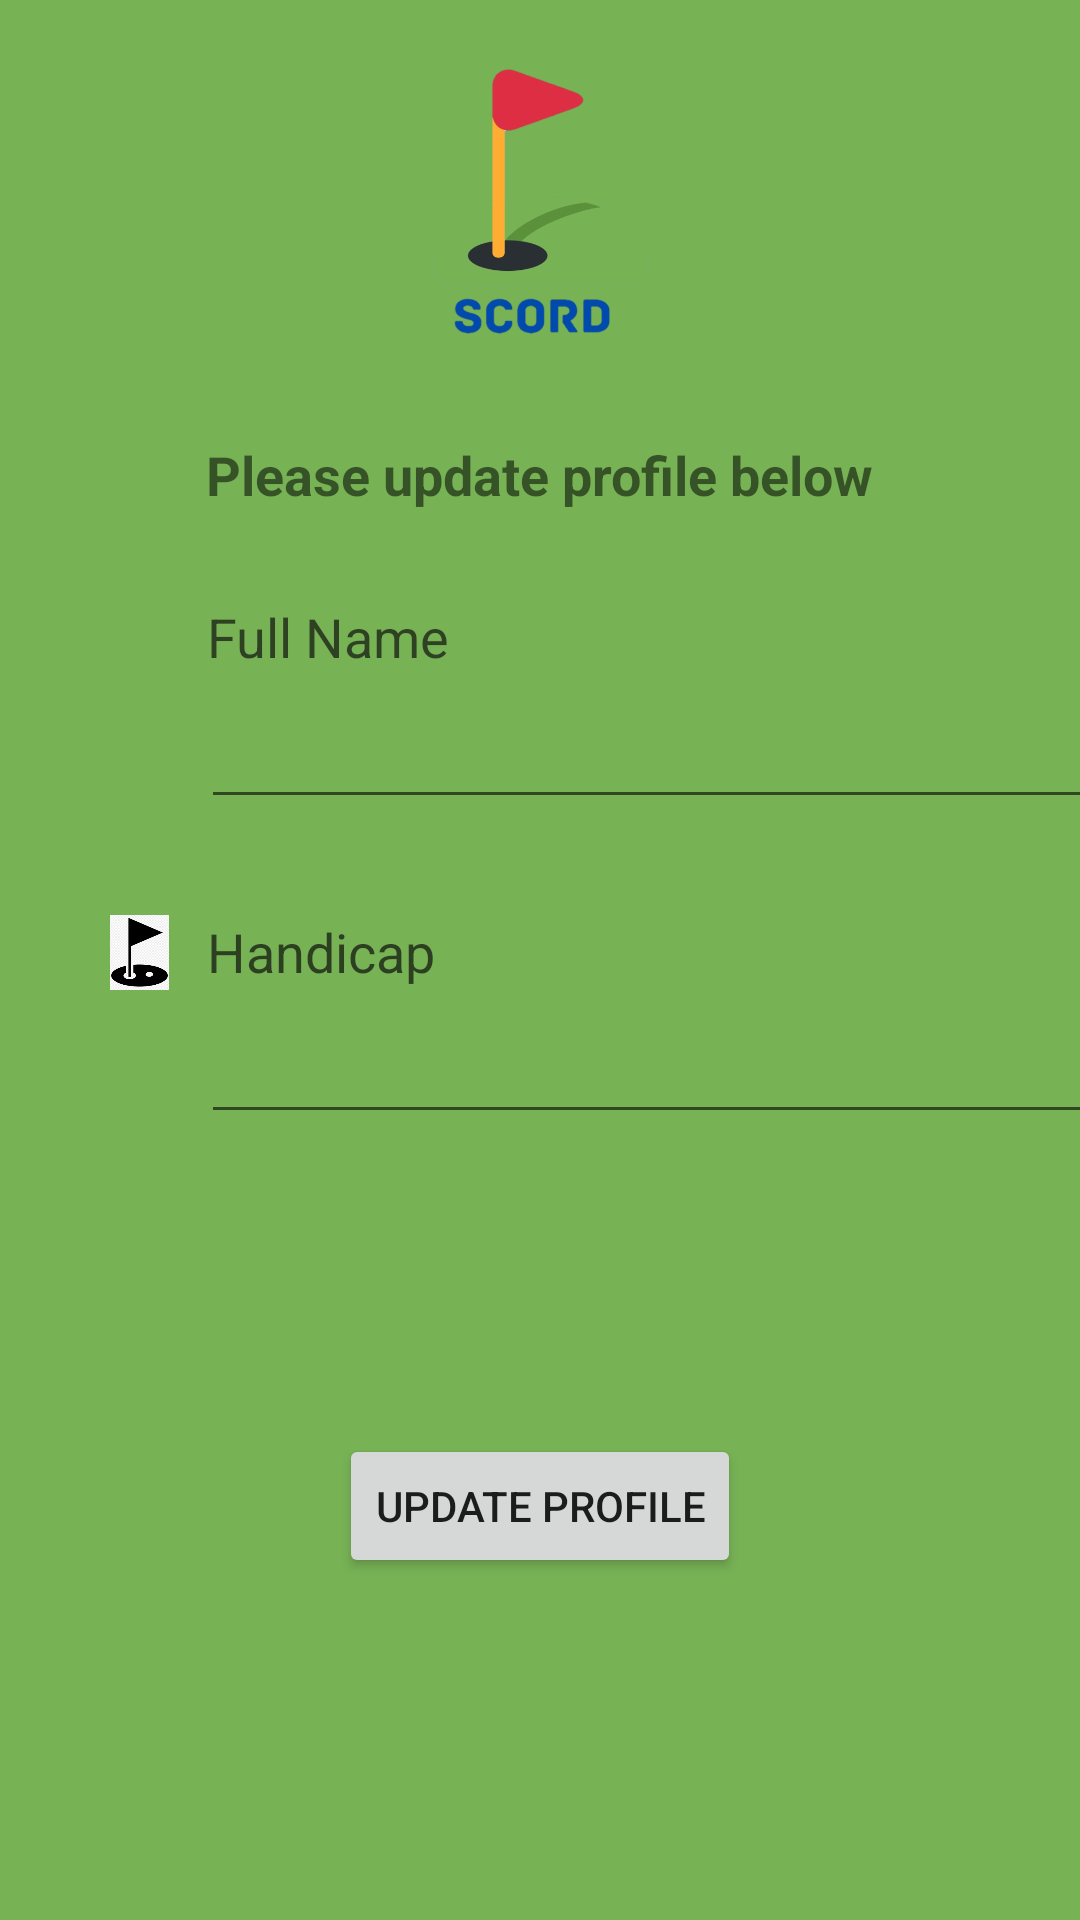

Screen size 1080×1920. Icon name, then its box in pixels as box(x1, y1, x2, y2):
golf pin: box(110, 915, 169, 990)
